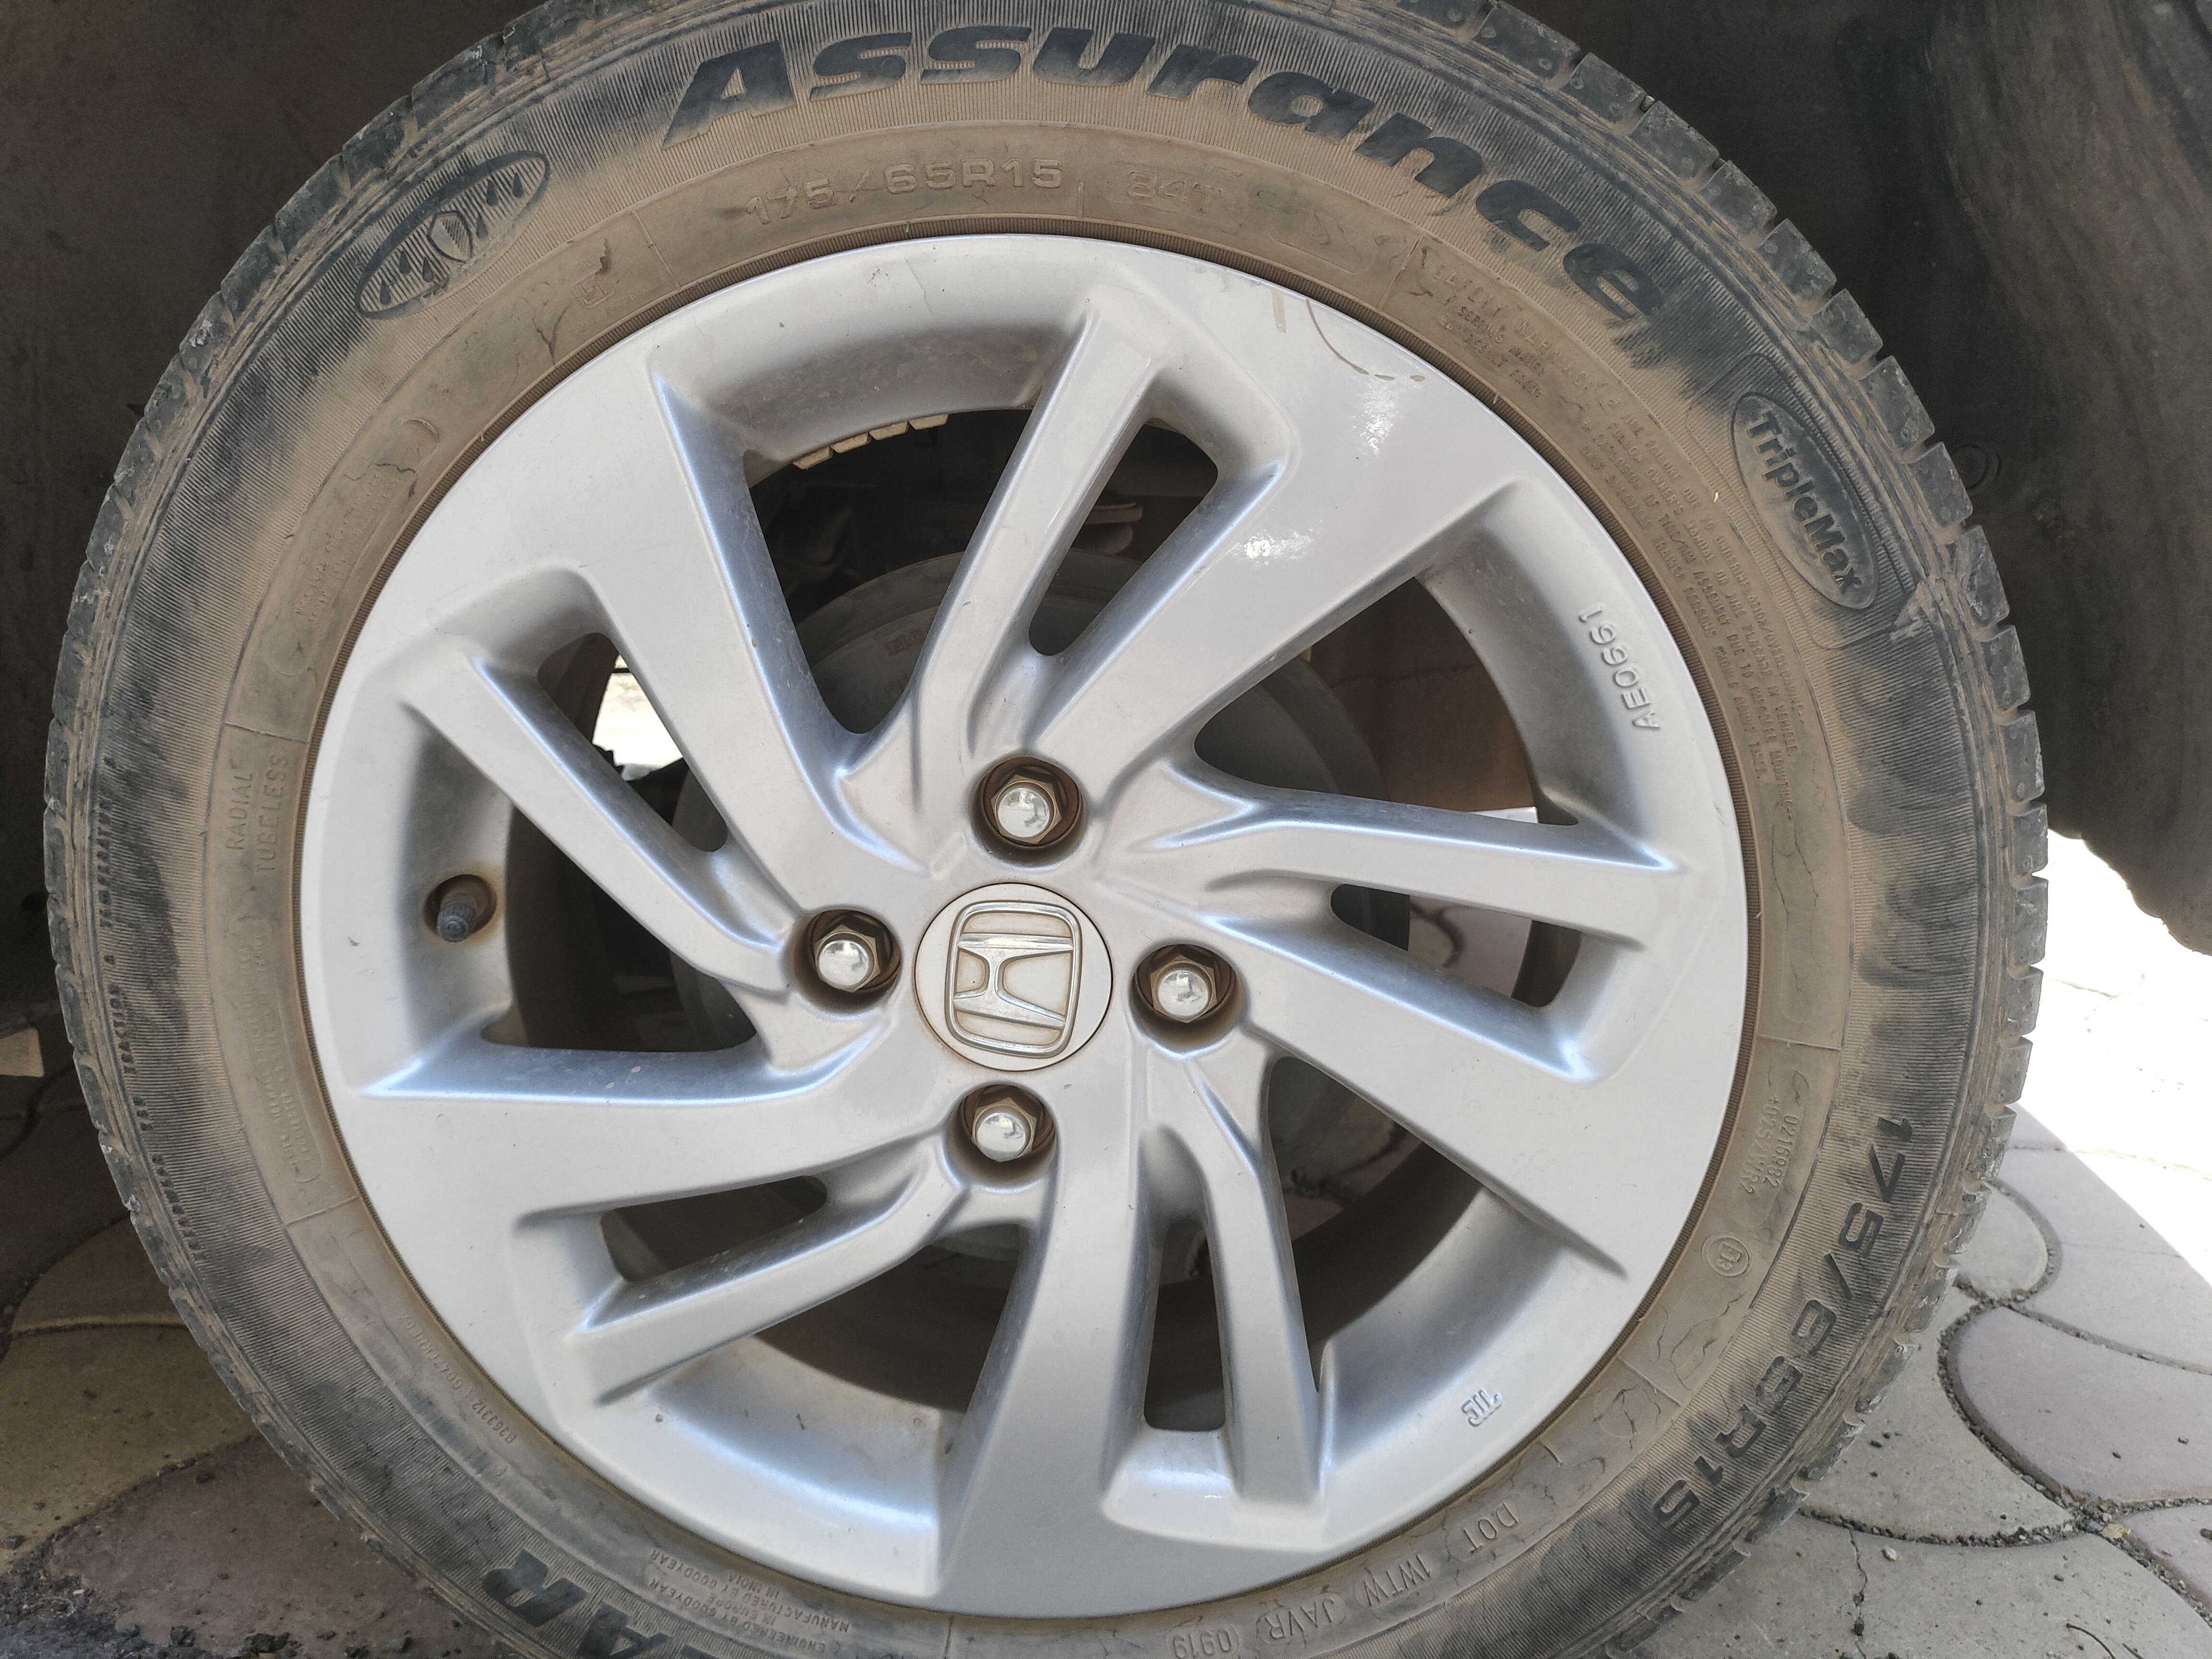l: (944, 732, 1094, 875), (1130, 917, 1259, 1060), (934, 1077, 1075, 1192), (782, 899, 897, 1021)
